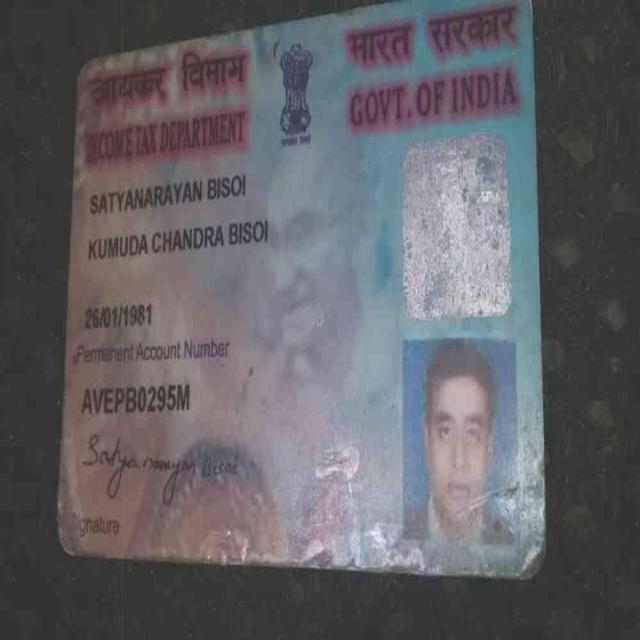pan_card: (61, 0, 540, 576)
